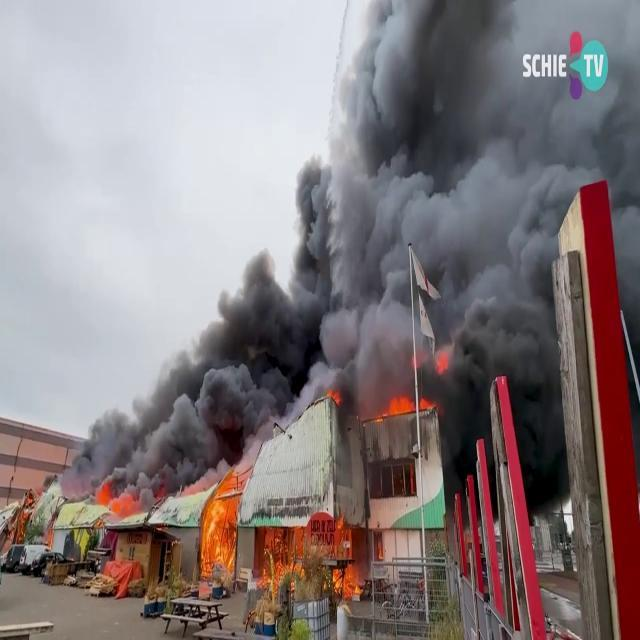Fire: (198, 463, 244, 599), (328, 509, 366, 612)
Smoke: (77, 1, 628, 478)
